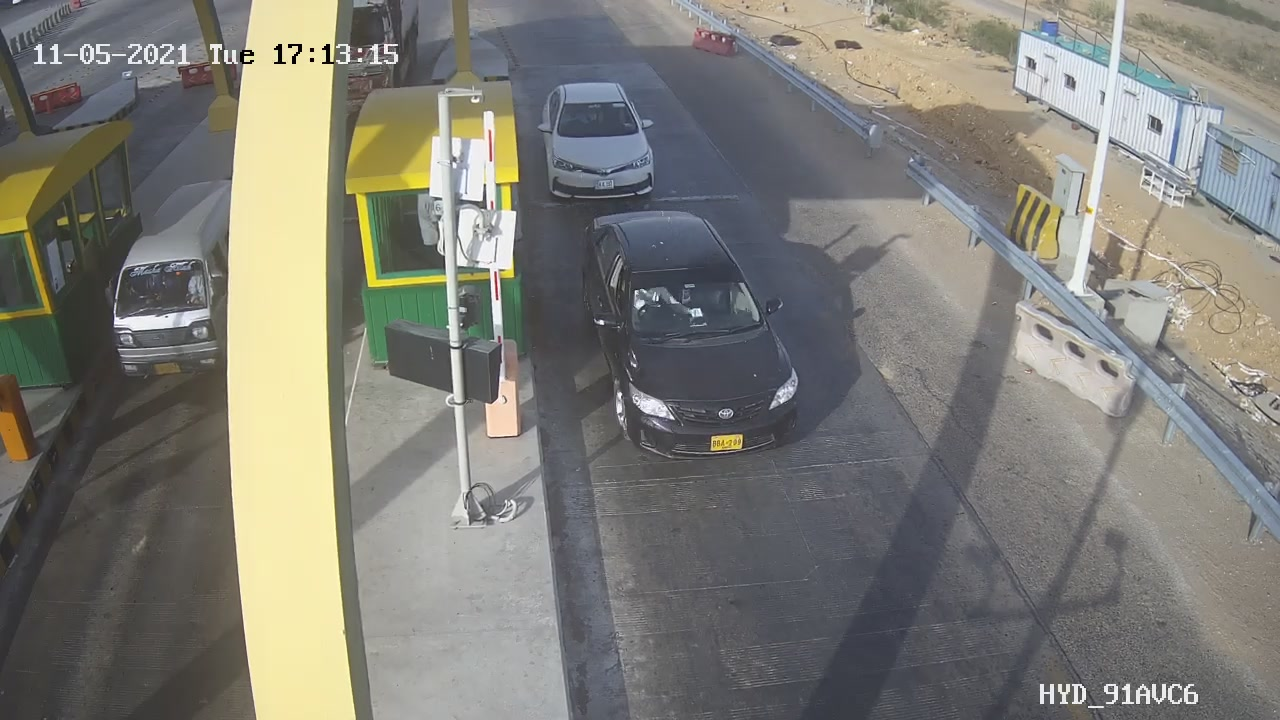F1: (564, 200, 824, 472), (524, 69, 672, 214)
